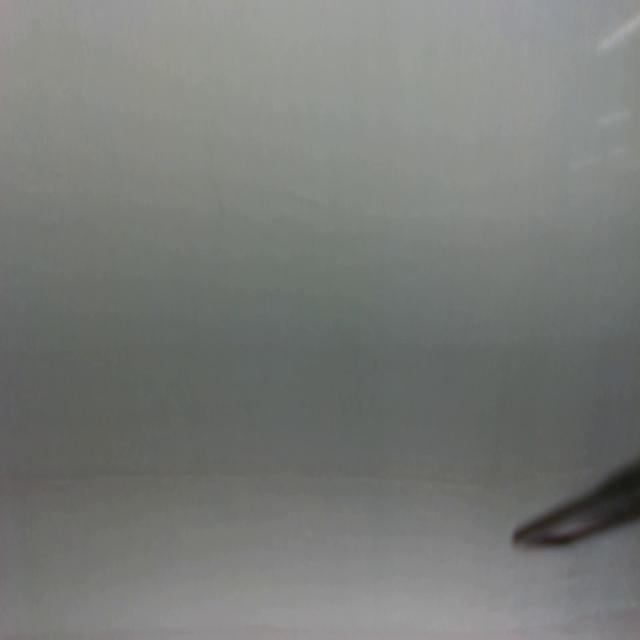color bleeding: (0, 331, 589, 494)
